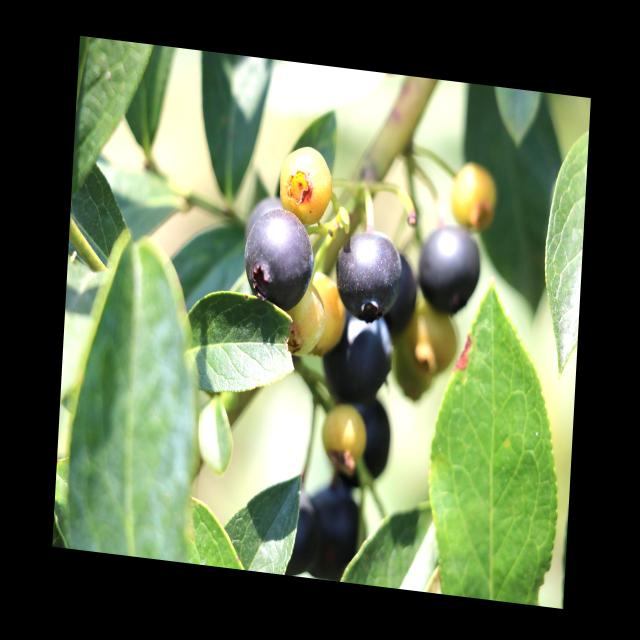blueberry: (313, 302, 401, 422), (239, 197, 320, 321), (329, 220, 407, 330), (299, 480, 377, 586), (411, 216, 486, 324), (331, 392, 398, 499), (267, 483, 328, 579), (369, 240, 424, 341), (240, 188, 290, 259)
blueberry-unripe: (275, 138, 336, 224), (449, 158, 502, 231), (407, 303, 460, 374), (321, 399, 370, 470), (310, 274, 348, 356), (282, 289, 325, 356)
